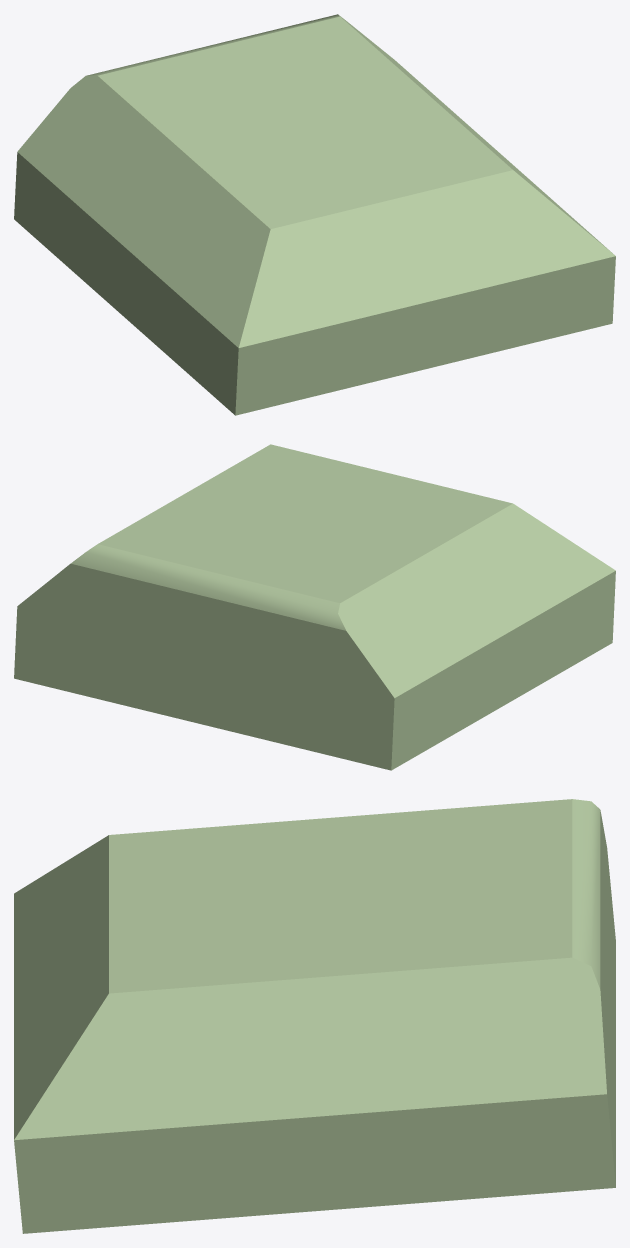
The model's file is original-22.obj.
3 renders of one model, top to bottom at view 1: azimuth 30°, elevation 25°; view 2: azimuth 150°, elevation 25°; view 3: azimuth 270°, elevation 25°, orthographic. The views are drawn at different scales.
Visible parts, largest first — view 1: mesh10/mesh10-geometry#mesh10-geometry; view 2: mesh10/mesh10-geometry#mesh10-geometry; view 3: mesh10/mesh10-geometry#mesh10-geometry.
Part boxes in pixels (<box>): mesh10/mesh10-geometry#mesh10-geometry: <box>14,14,615,415</box>; mesh10/mesh10-geometry#mesh10-geometry: <box>14,444,615,770</box>; mesh10/mesh10-geometry#mesh10-geometry: <box>14,799,615,1233</box>.
Bounding box in the file's own units: 0.0726 × 0.0319 × 0.0749.
